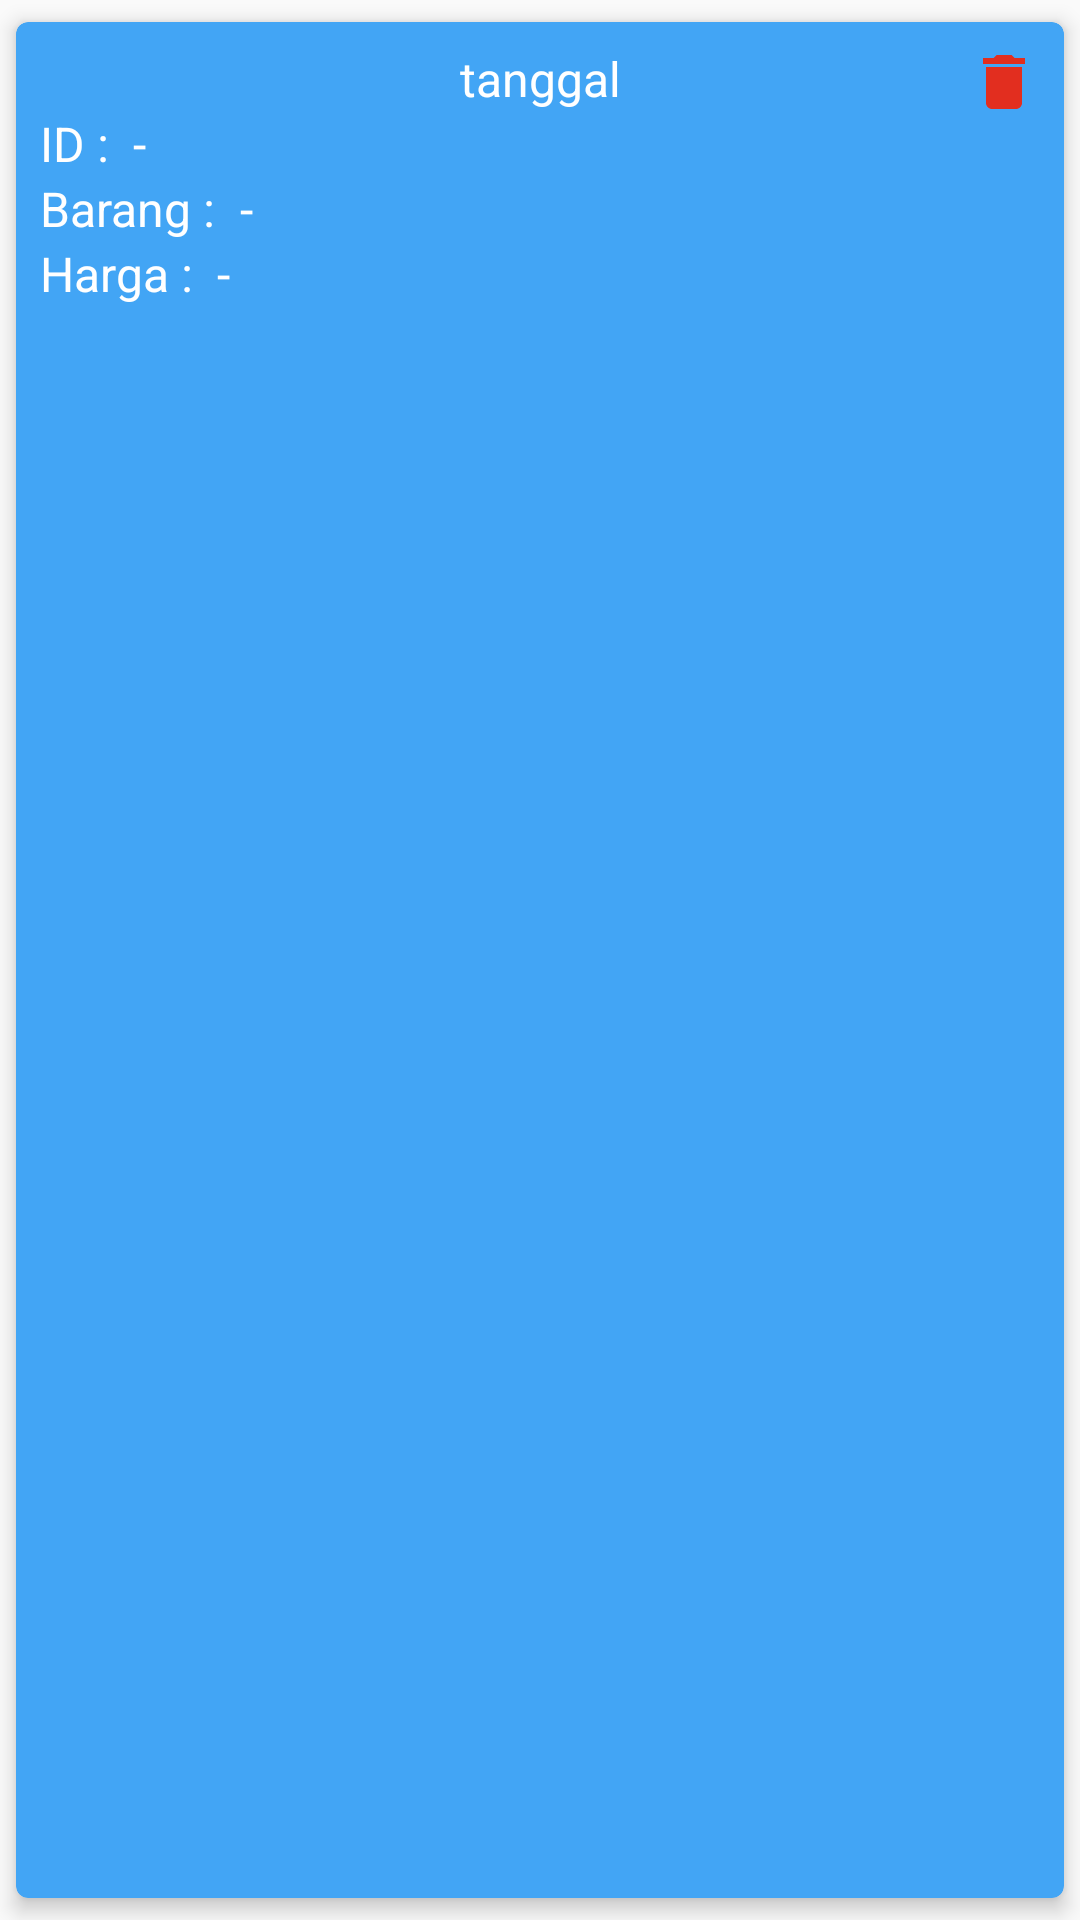

Icon click points for this 1080x1920 phone screenshot, format point (x, y):
delete: point (1004, 82)
